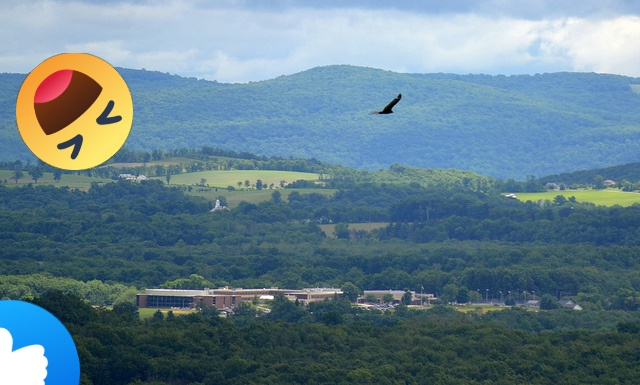haha: (16, 53, 133, 170)
like: (0, 300, 80, 385)
